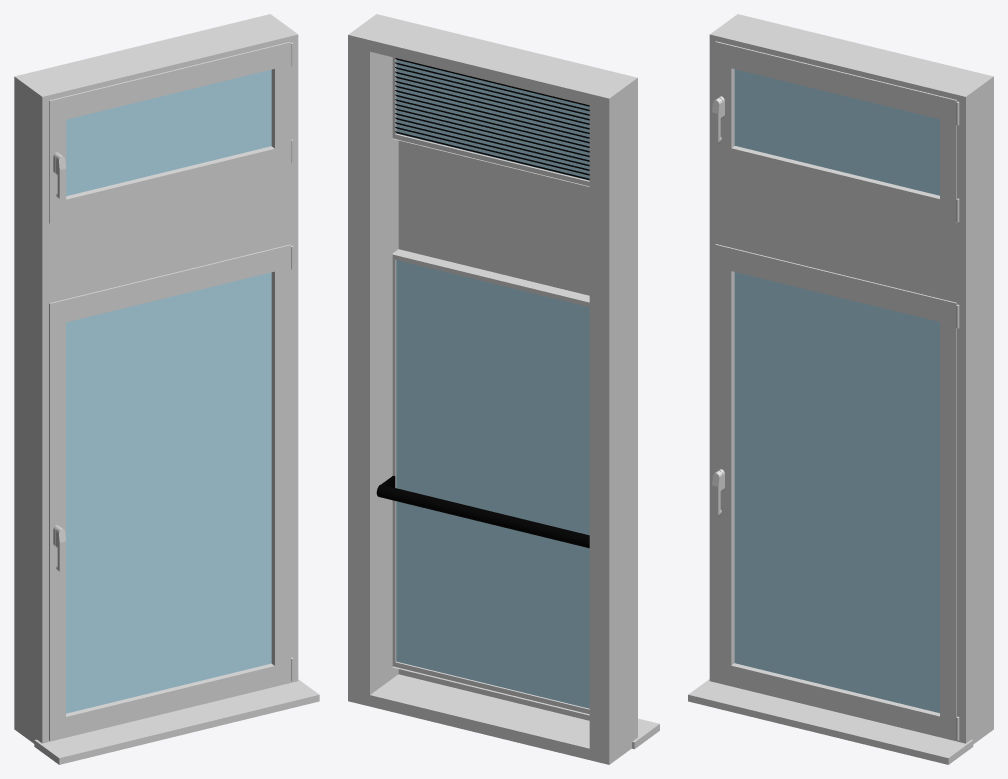
The model's file is IAIWindowTypeB.dae.
3 views of the same model, side by side, from view 1: azimuth 30°, elevation 25°; view 2: azimuth 150°, elevation 25°; view 3: azimuth 330°, elevation 25° (orthographic). The views are drawn at different scales.
Parts seen in each view (by area): view 1: SM_IAIWindowTypeB; view 2: SM_IAIWindowTypeB; view 3: SM_IAIWindowTypeB.
Part boxes in pixels (x1,y1,x2,y2): SM_IAIWindowTypeB: (14,14,319,764); SM_IAIWindowTypeB: (348,14,659,764); SM_IAIWindowTypeB: (688,14,993,764).
Bounding box in the file's own units: 1.21 × 0.38 × 2.9.
